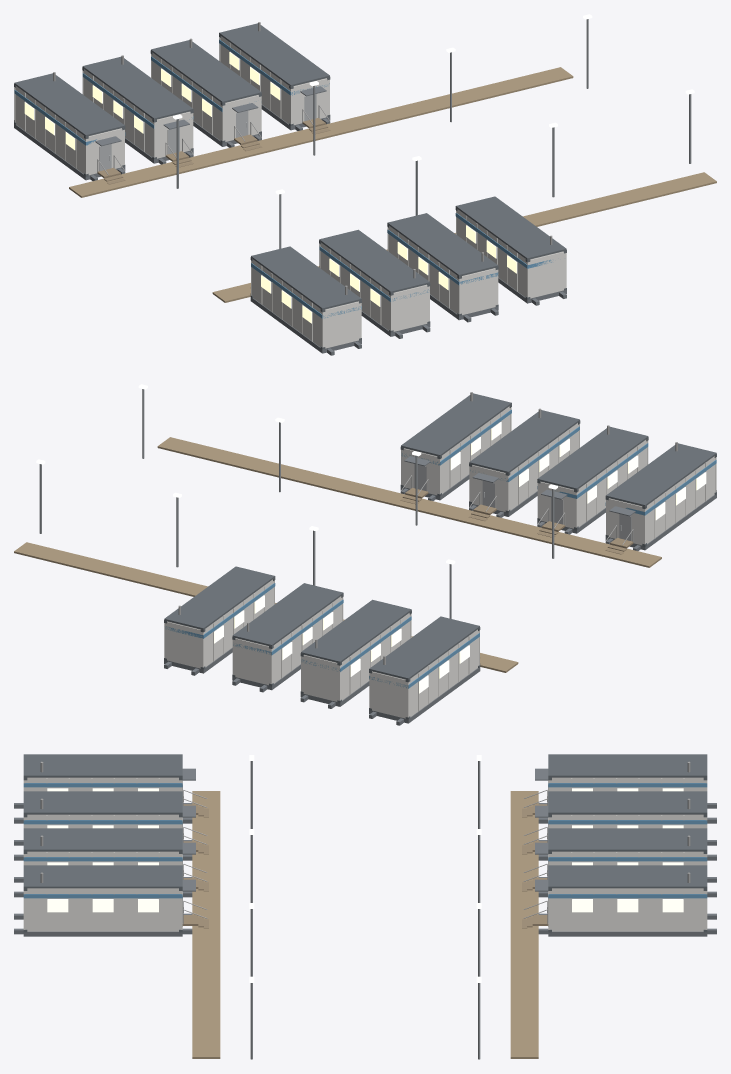
File: living.glb
The picture shows the model from 3 angles, top to bottom: view 1: azimuth 30°, elevation 25°; view 2: azimuth 150°, elevation 25°; view 3: azimuth 270°, elevation 25°; orthographic projection. The views are drawn at different scales.
Visible parts, largest first — view 1: object 249, object 250, object 104, object 73, object 228, object 42, object 166, object 135, object 197, object 11, object 1, object 32 (+15 smaller); view 2: object 250, object 249, object 73, object 104, object 197, object 11, object 135, object 166, object 228, object 42, object 32, object 1 (+15 smaller); view 3: object 249, object 250, object 187, object 218, object 11, object 42, object 73, object 104, object 135, object 166, object 197, object 228 (+16 smaller).
Boxes of the visible parts, <box> form: object 249: <box>69,67,573,197</box>; object 250: <box>212,172,716,302</box>; object 104: <box>319,229,429,292</box>; object 73: <box>82,56,193,119</box>; object 228: <box>455,196,566,259</box>; object 42: <box>251,246,361,309</box>; object 166: <box>387,213,498,275</box>; object 135: <box>151,40,261,102</box>; object 197: <box>219,23,329,85</box>; object 11: <box>14,73,125,135</box>; object 1: <box>15,86,121,173</box>; object 32: <box>252,259,358,346</box>; object 250: <box>157,437,661,567</box>; object 249: <box>14,542,518,672</box>; object 73: <box>301,599,411,662</box>; object 104: <box>537,426,648,489</box>; object 197: <box>164,566,275,629</box>; object 11: <box>369,616,479,679</box>; object 135: <box>232,583,343,645</box>; object 166: <box>469,410,579,472</box>; object 228: <box>401,393,511,455</box>; object 42: <box>605,443,716,505</box>; object 32: <box>609,456,715,543</box>; object 1: <box>372,629,478,716</box>; object 249: <box>510,791,538,1058</box>; object 250: <box>192,791,220,1058</box>; object 187: <box>549,888,705,931</box>; object 218: <box>25,888,181,931</box>; object 11: <box>548,754,707,777</box>; object 42: <box>23,754,182,777</box>; object 73: <box>548,791,707,814</box>; object 104: <box>23,791,182,814</box>; object 135: <box>548,828,707,851</box>; object 166: <box>23,828,182,851</box>; object 197: <box>548,865,707,888</box>; object 228: <box>23,865,182,888</box>.
Size of the model in its own units: 36.25 by 5.08 by 40.2.
